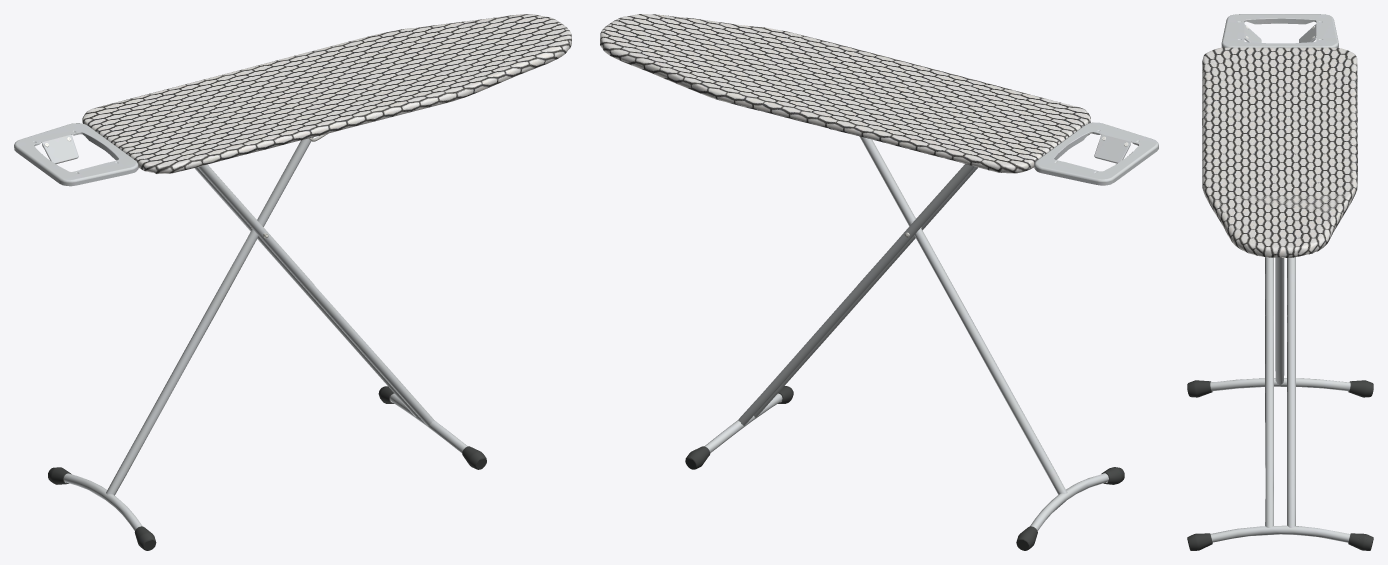
The model's file is danka_deska_do_prasowania_20471612.glb.
The picture shows the model from 3 angles, left to right: view 1: azimuth 30°, elevation 25°; view 2: azimuth 150°, elevation 25°; view 3: azimuth 270°, elevation 25°; orthographic projection. The views are drawn at different scales.
Visible parts, largest first — view 1: danka_deska_do_prasowania_20471612; view 2: danka_deska_do_prasowania_20471612; view 3: danka_deska_do_prasowania_20471612.
Boxes of the visible parts, x1,y1,x2,y2 form: danka_deska_do_prasowania_20471612: (14,14,571,550); danka_deska_do_prasowania_20471612: (600,14,1158,550); danka_deska_do_prasowania_20471612: (1187,14,1373,550).
Size of the model in its own units: 1.41 by 0.9671 by 0.4512.
Materials: 2 (2 with a texture image).
